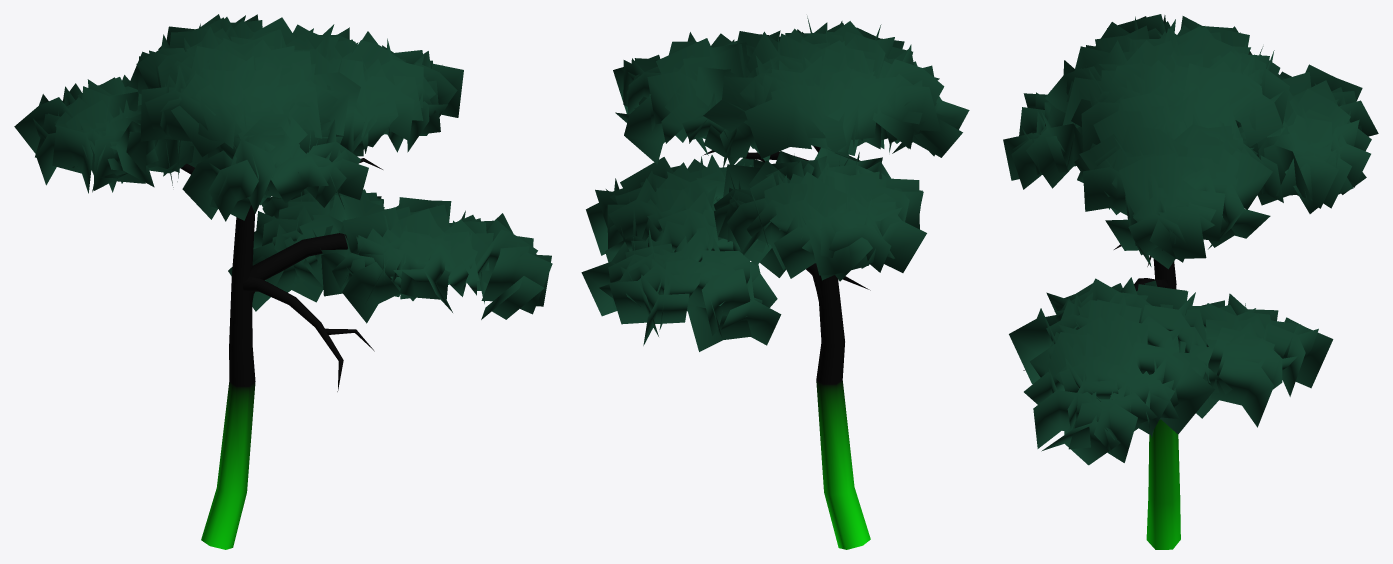
The model's file is SM_TheGreetingPine.fbx.
The picture shows the model from 3 angles, left to right: view 1: azimuth 30°, elevation 25°; view 2: azimuth 150°, elevation 25°; view 3: azimuth 270°, elevation 25°; orthographic projection. The views are drawn at different scales.
Parts seen in each view (by area): view 1: SM_TheGreetingPine_LOD0; view 2: SM_TheGreetingPine_LOD0; view 3: SM_TheGreetingPine_LOD0.
Part boxes in pixels (x1,y1,x2,y2): SM_TheGreetingPine_LOD0: [14, 14, 552, 549]; SM_TheGreetingPine_LOD0: [581, 16, 969, 549]; SM_TheGreetingPine_LOD0: [1003, 14, 1378, 549].
Size of what is drawn, in the model's own units: 1506 by 1746 by 1149.
